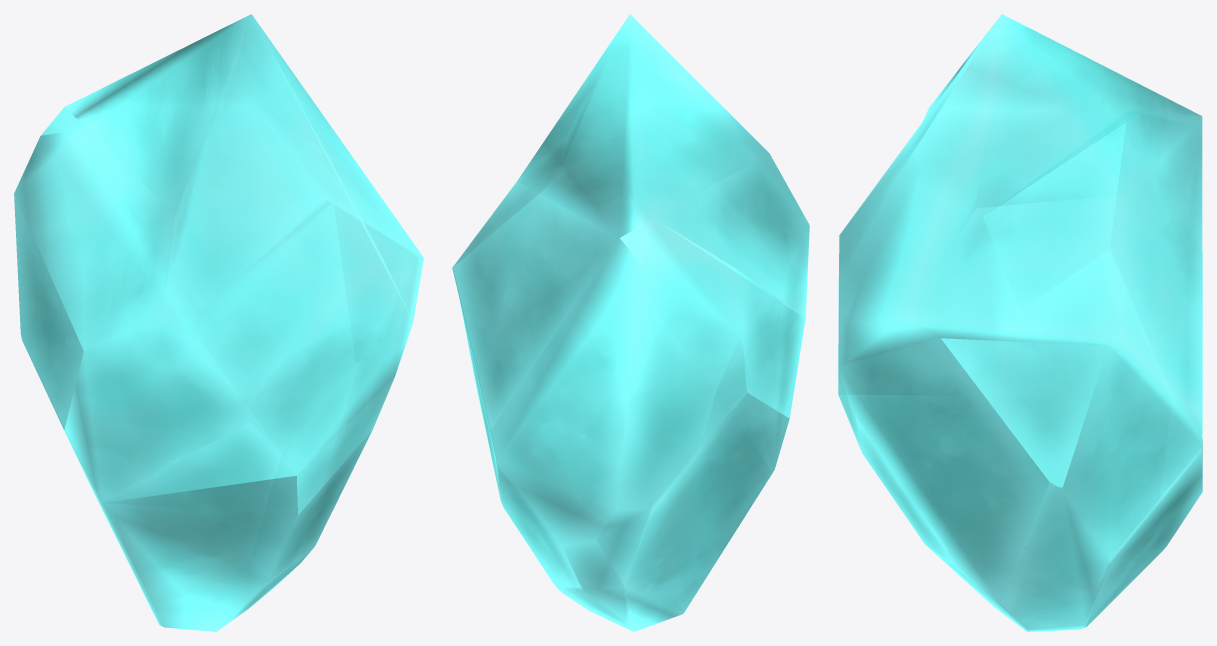
The picture shows the model from 3 angles, left to right: view 1: azimuth 30°, elevation 25°; view 2: azimuth 150°, elevation 25°; view 3: azimuth 270°, elevation 25°; orthographic projection. The views are drawn at different scales.
Parts seen in each view (by area): view 1: defaultMaterial._color; view 2: defaultMaterial._color; view 3: defaultMaterial._color.
Boxes of the visible parts, x1=… form: defaultMaterial._color: x1=14, y1=14, x2=423, y2=631; defaultMaterial._color: x1=452, y1=14, x2=809, y2=631; defaultMaterial._color: x1=838, y1=14, x2=1202, y2=631.
Size of the model in its own units: 210 by 388 by 209.
